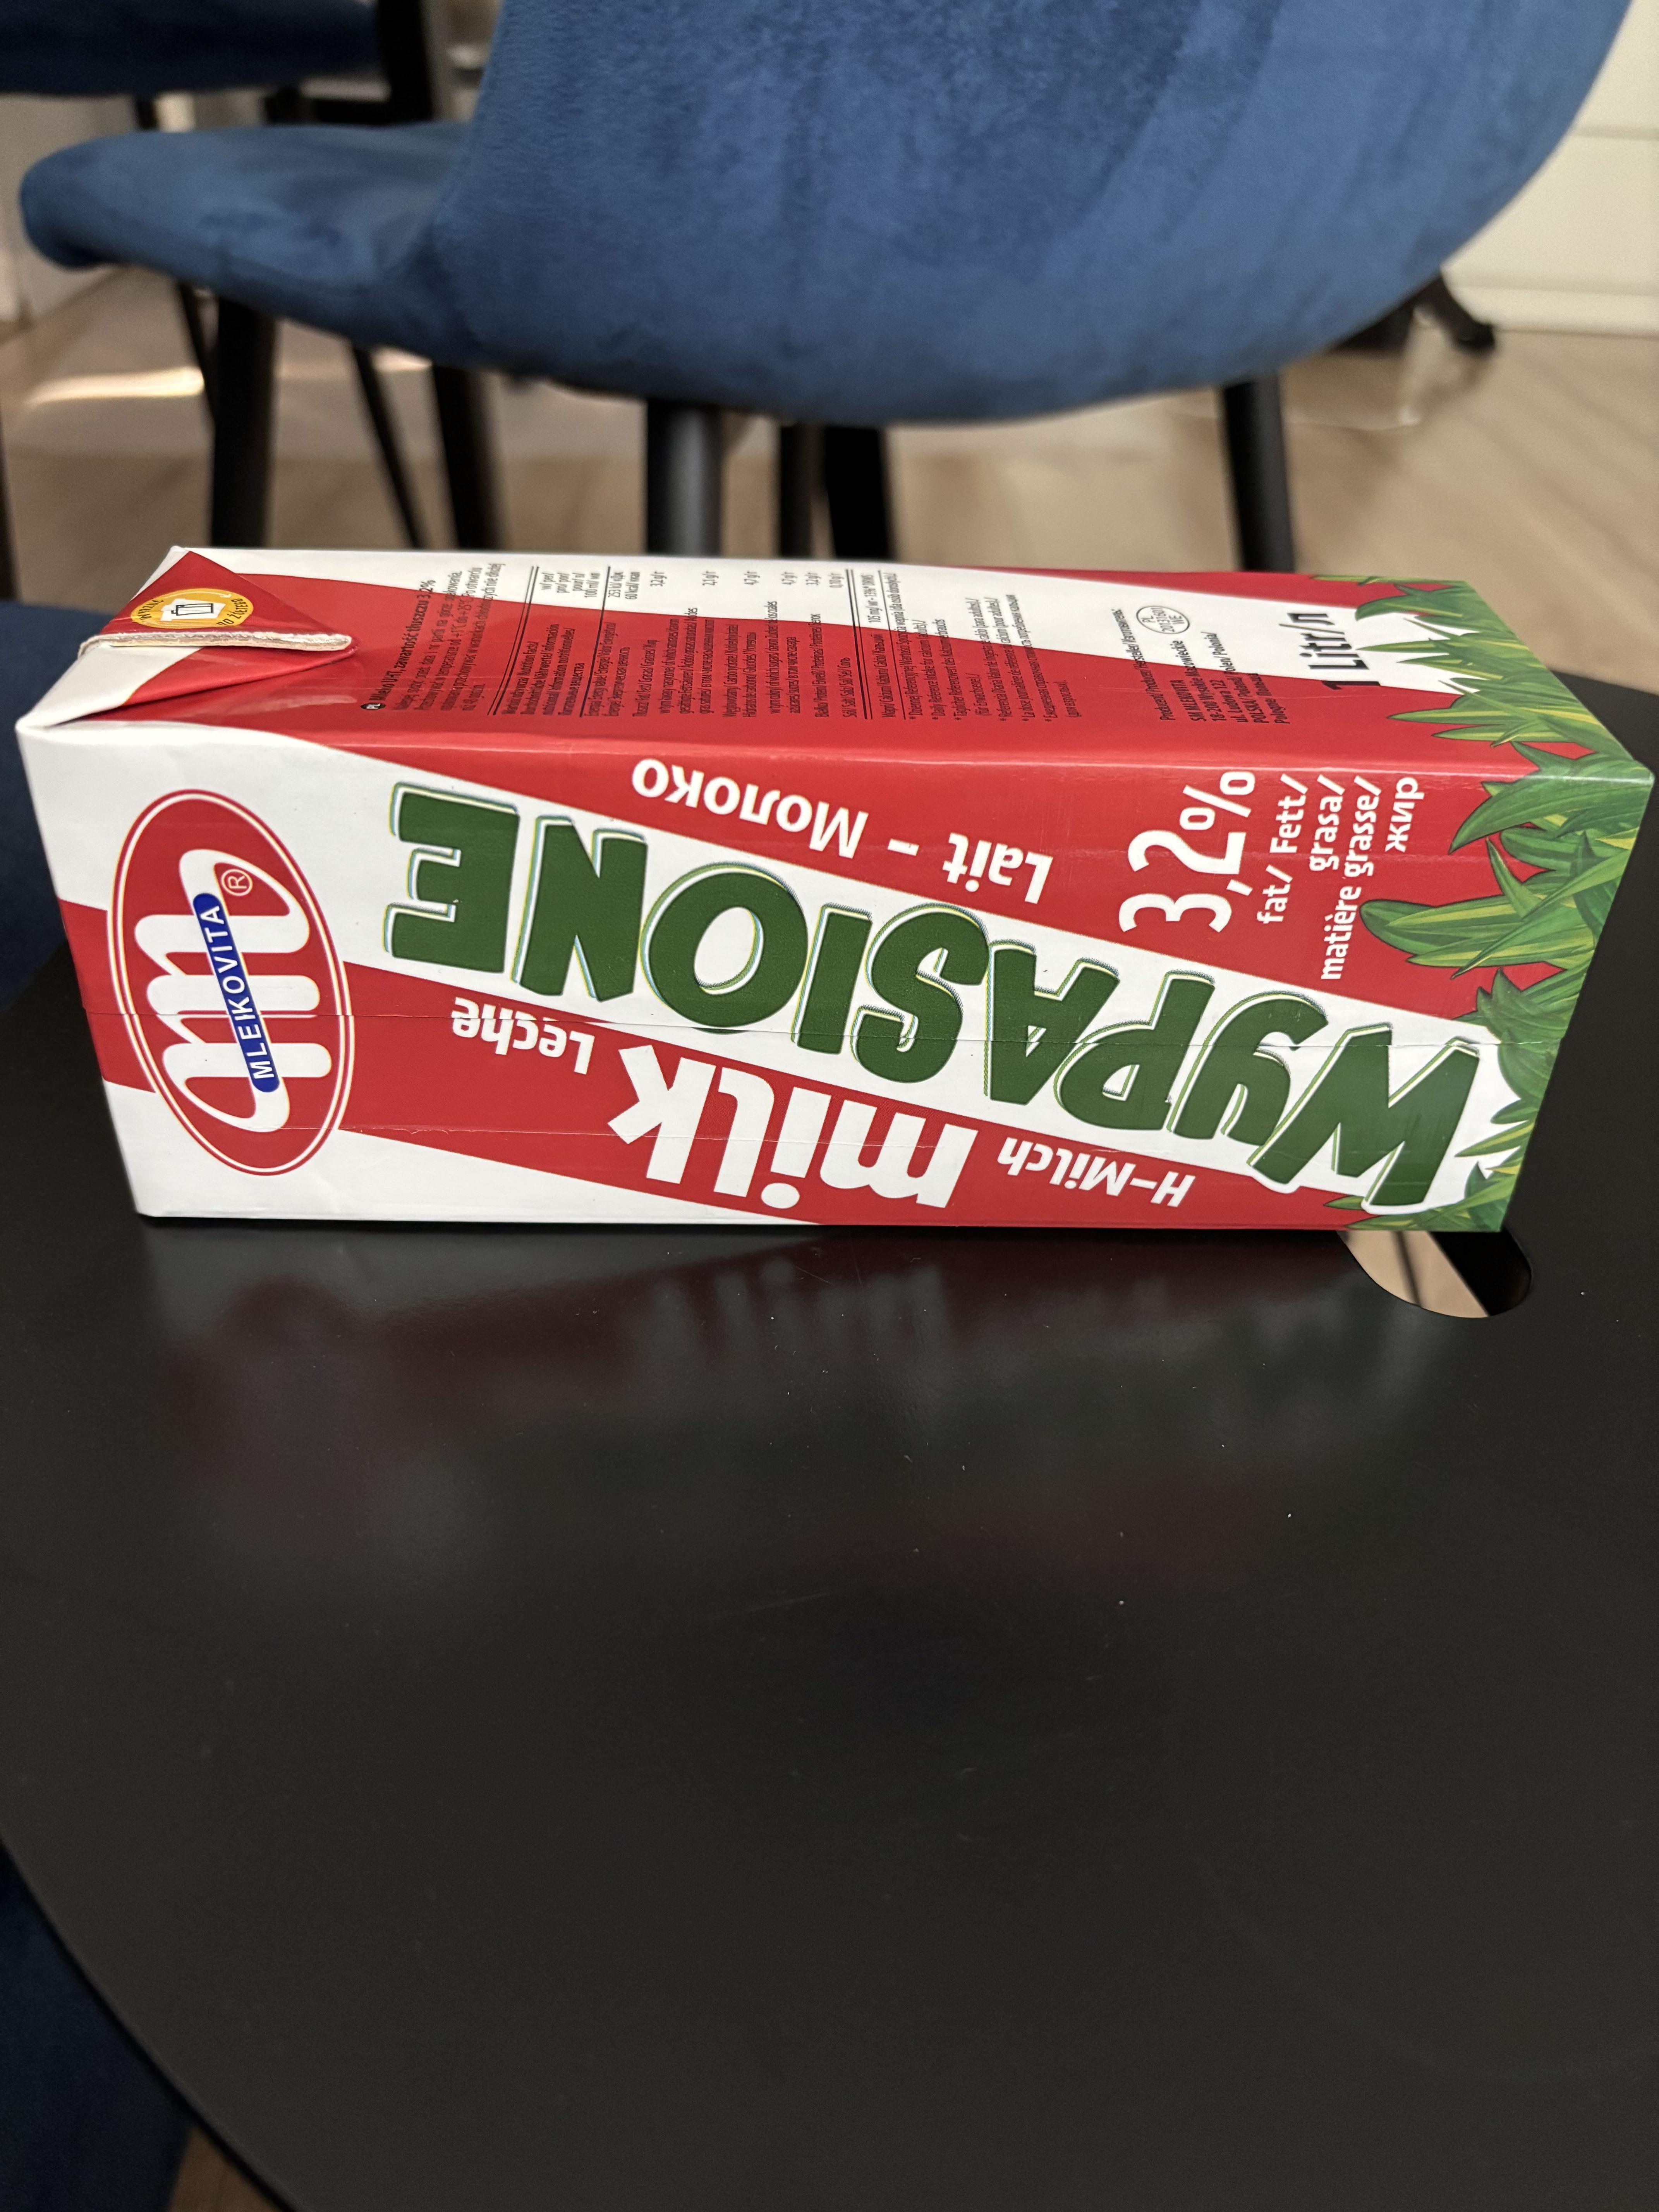Milk: (80, 538, 1603, 1217)
